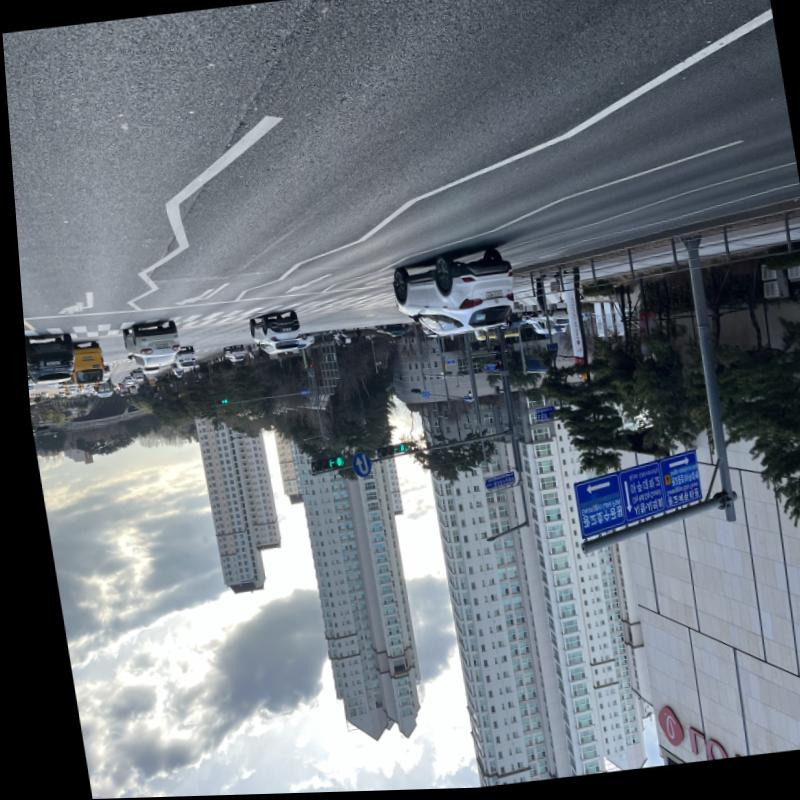green: (329, 458, 337, 468)
left: (321, 460, 329, 470)
